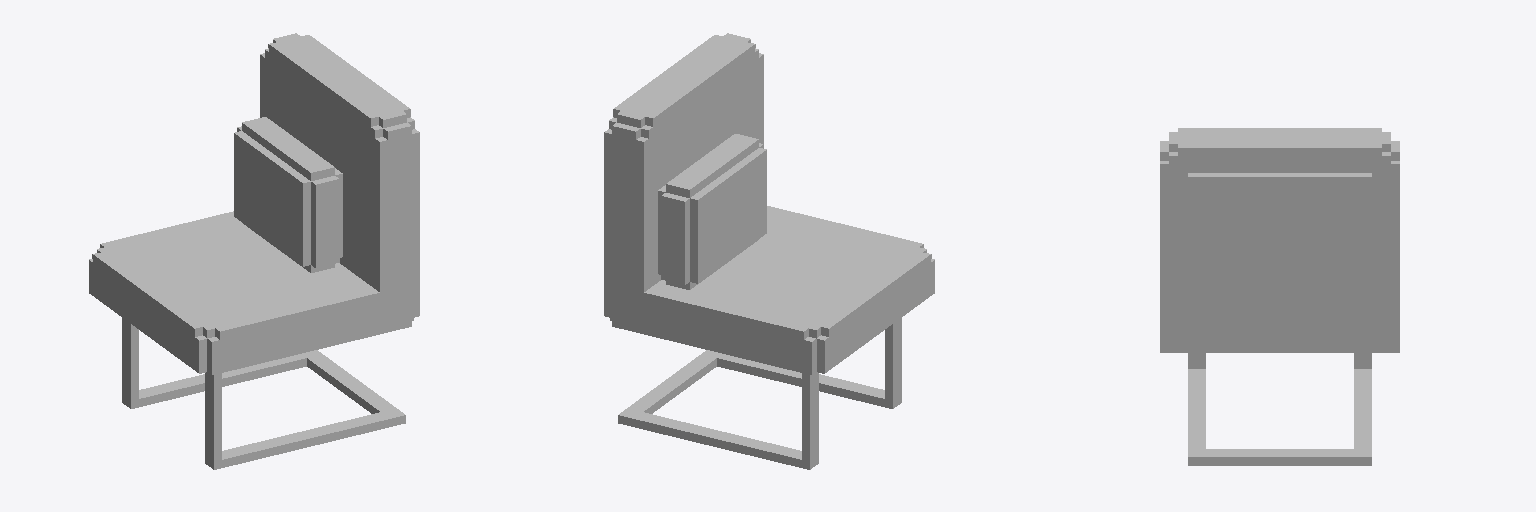
Rendered from Chair1.obj.
3 views of the same model, side by side, from view 1: azimuth 30°, elevation 25°; view 2: azimuth 150°, elevation 25°; view 3: azimuth 270°, elevation 25° (orthographic).
Visible parts, largest first — view 1: Untitled.002; view 2: Untitled.002; view 3: Untitled.002.
Part boxes in pixels (x1,y1,x2,y2): Untitled.002: (89,33,419,469); Untitled.002: (604,33,934,469); Untitled.002: (1160,128,1399,465).
Bounding box in the file's own units: 2.8 × 3.8 × 2.6.